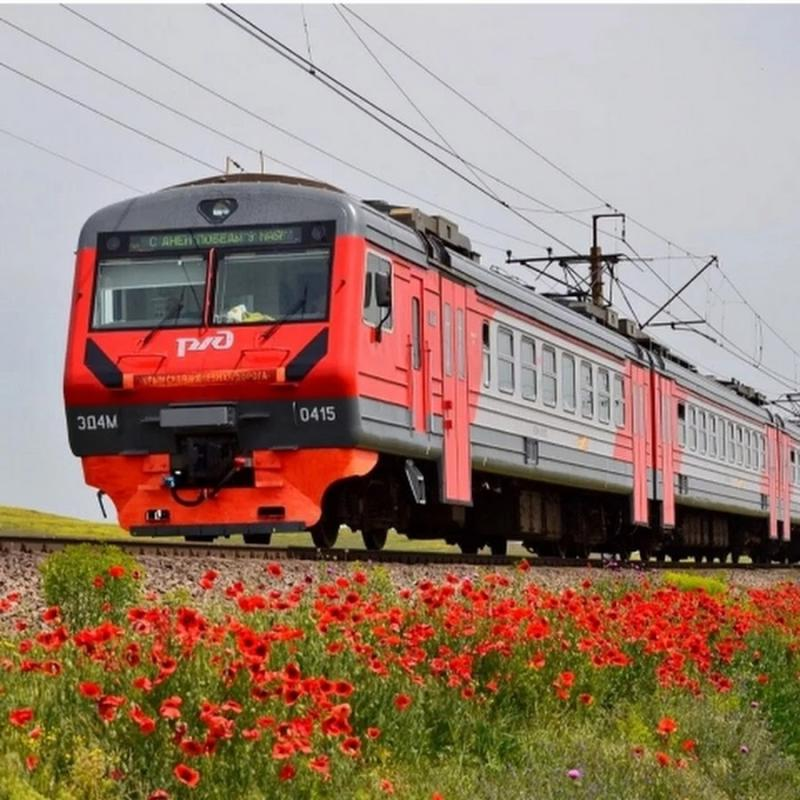train: (54, 145, 800, 611)
